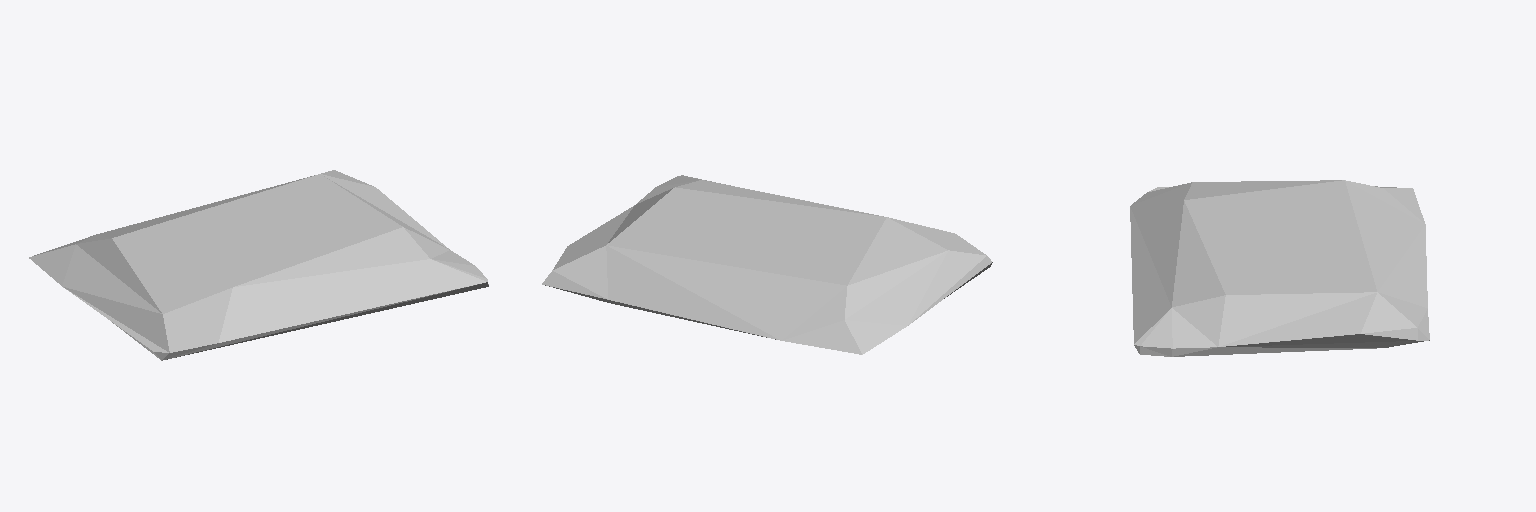
Rendered from package_hr_1.obj.
3 views of the same model, side by side, from view 1: azimuth 30°, elevation 25°; view 2: azimuth 150°, elevation 25°; view 3: azimuth 270°, elevation 25° (orthographic).
Parts seen in each view (by area): view 1: package_hr_1; view 2: package_hr_1; view 3: package_hr_1.
Boxes of the visible parts, x1=… form: package_hr_1: x1=29, y1=170, x2=488, y2=360; package_hr_1: x1=542, y1=175, x2=992, y2=354; package_hr_1: x1=1130, y1=180, x2=1429, y2=356.
Size of the model in its own units: 0.5627 by 0.0684 by 0.4377.